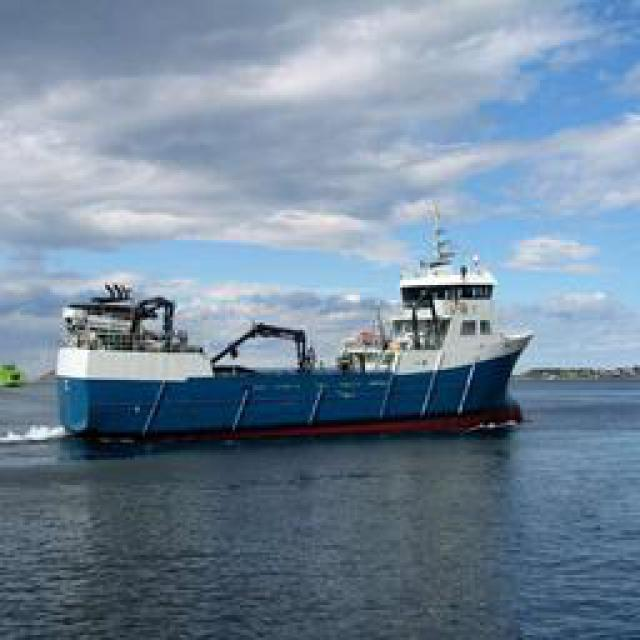Ship: (52, 251, 535, 446)
